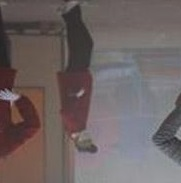person: (57, 4, 99, 155), (1, 7, 41, 163), (151, 93, 181, 165)
